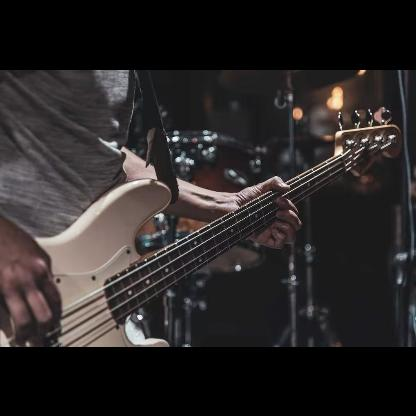bass: (0, 106, 402, 346)
